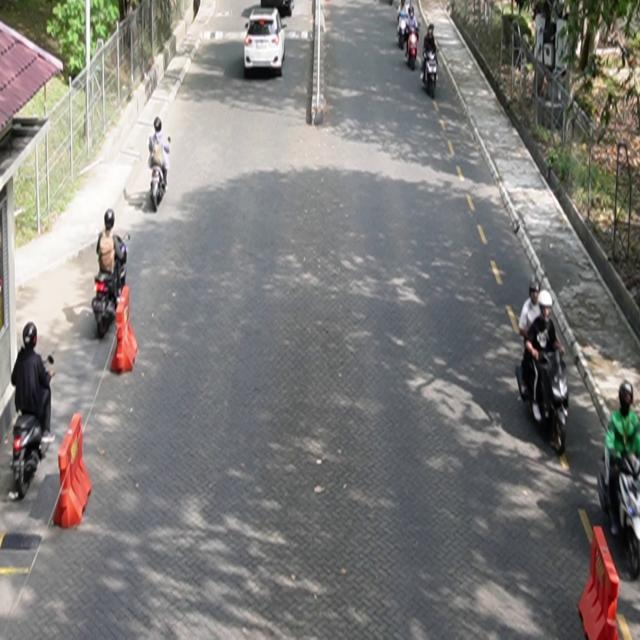car: (244, 8, 287, 78)
